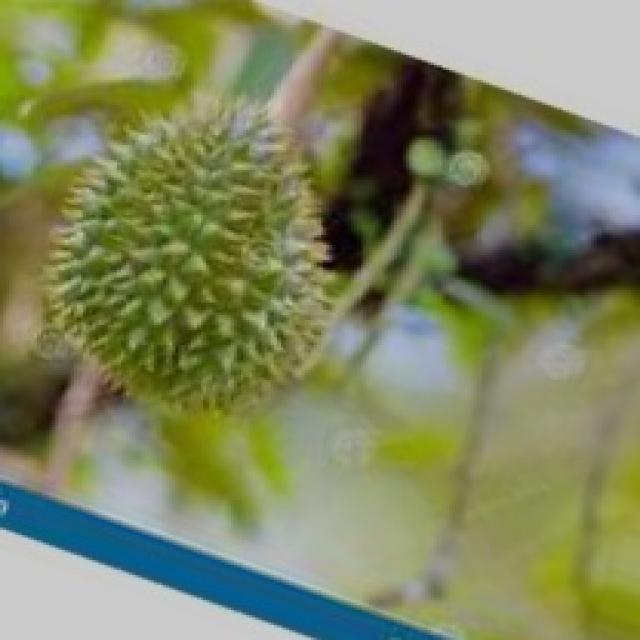fruit: (0, 42, 397, 488)
